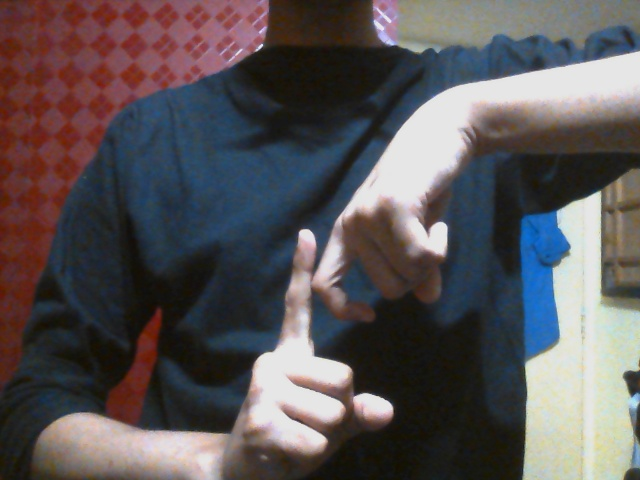K: (230, 201, 438, 469)
